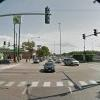Traffic light: (38, 2, 56, 30)
